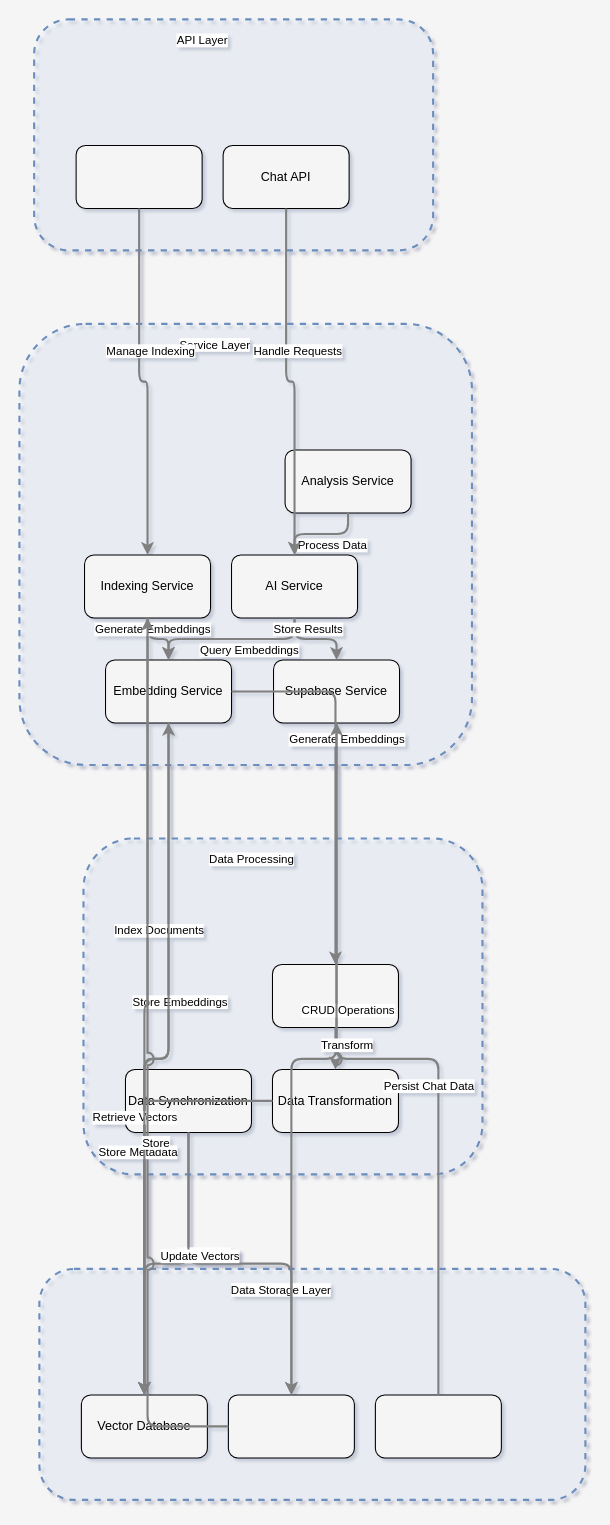
Image size: 610x1525. Some labels were removed from this diagram. Each missing label, with the centre of its shape:
"Indexing API" belongs at [138,176].
"PostgreSQL/Prisma" belongs at [437,1426].
"Supabase DB" belongs at [290,1426].
"Vector Generation" belongs at [334,995].
